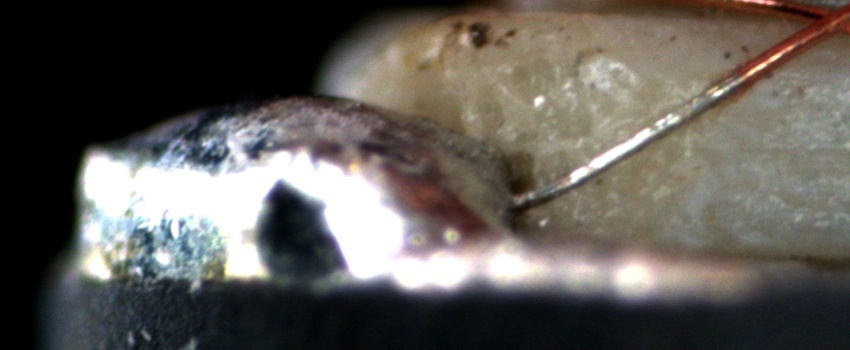CL: (799, 5, 849, 40)
DL: (701, 124, 849, 183)
TS: (511, 71, 747, 209)
